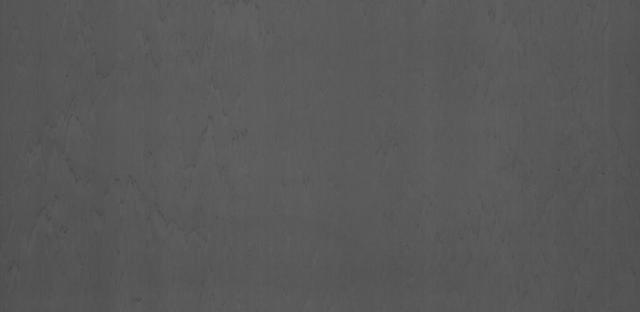silk_spot: (31, 53, 244, 268)
